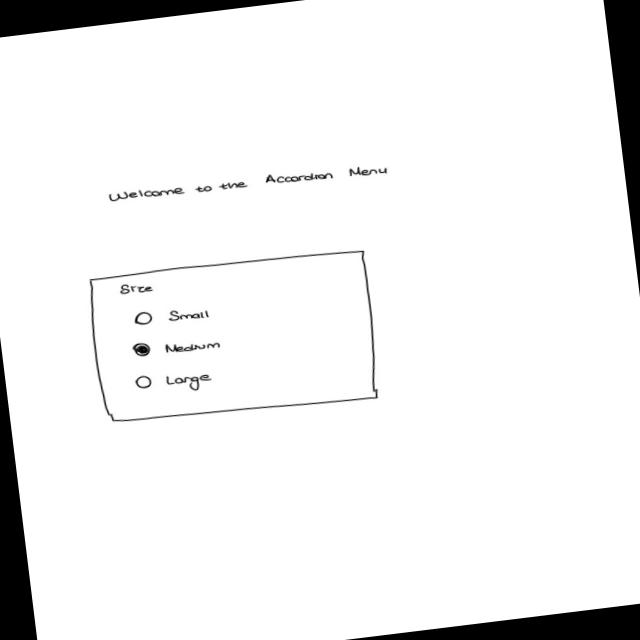container: (84, 243, 384, 434)
label: (107, 159, 390, 210), (117, 279, 158, 298)
radio: (131, 332, 226, 363), (133, 367, 217, 400), (131, 304, 215, 331)
